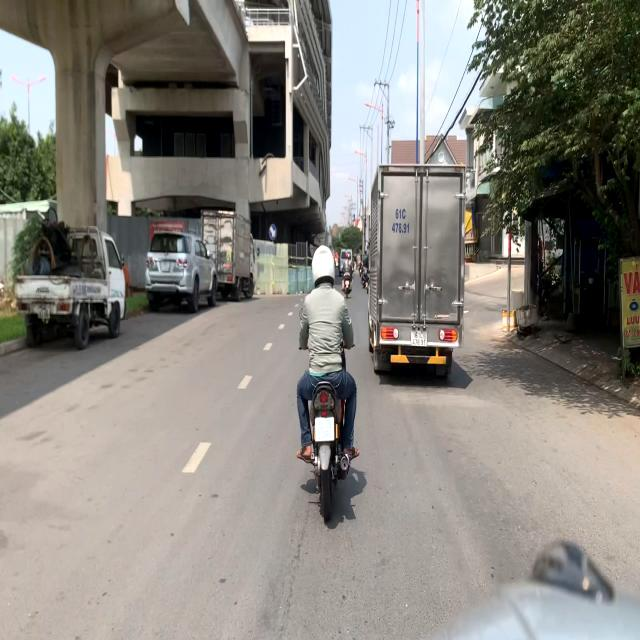Vong chuong ngai vat sang phai: (268, 223, 278, 241)
